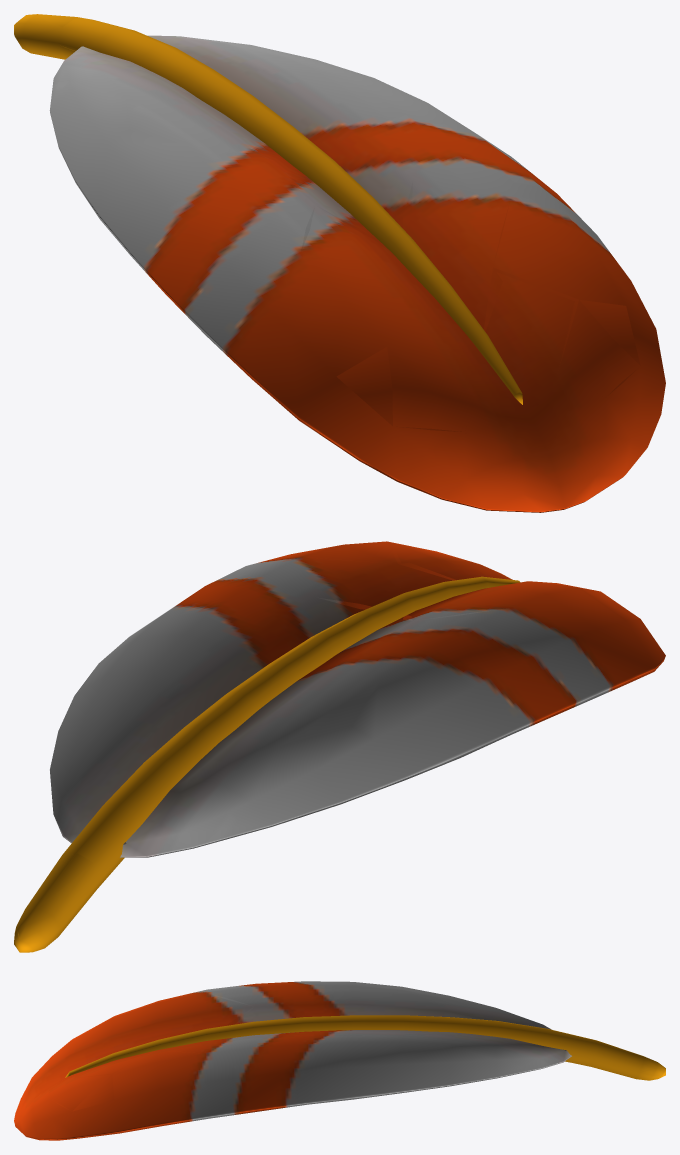
Rendered from Plume.glb.
3 views of the same model, one above another, from view 1: azimuth 30°, elevation 25°; view 2: azimuth 150°, elevation 25°; view 3: azimuth 270°, elevation 25° (orthographic). The views are drawn at different scales.
Visible parts, largest first — view 1: Object_2; view 2: Object_2; view 3: Object_2.
Boxes of the visible parts, bbox=[...] form: Object_2: bbox=[14, 14, 665, 512]; Object_2: bbox=[14, 541, 665, 952]; Object_2: bbox=[14, 981, 665, 1140].
Size of the model in its own units: 0.00306 by 0.00136 by 0.00738.
1 material, 1 textured.
